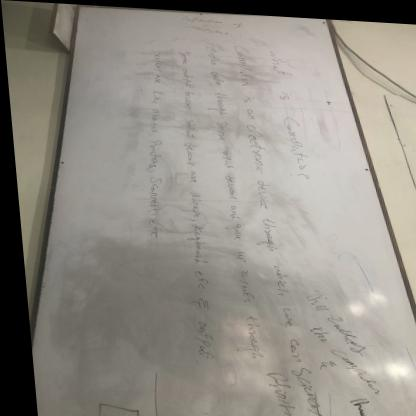Handwritten text: (217, 29, 322, 416), (185, 38, 266, 364), (164, 43, 215, 364), (129, 40, 176, 215), (261, 39, 314, 175)
Whiteboard: (29, 5, 416, 416)
